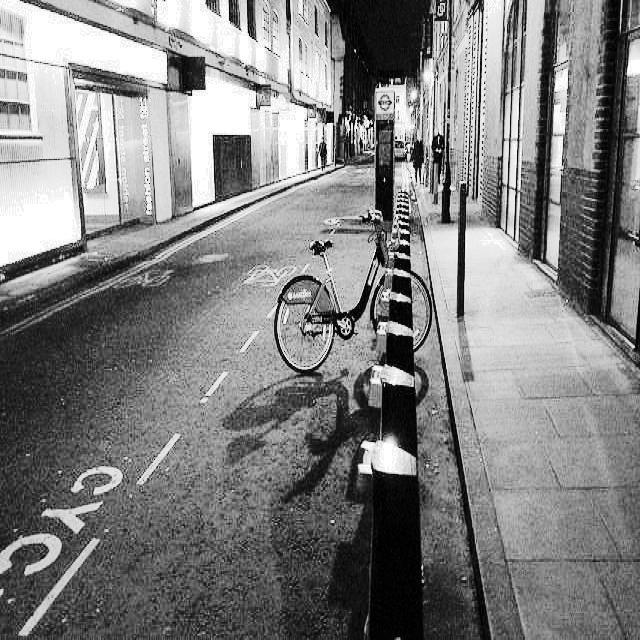Bicycle: (269, 216, 450, 368)
